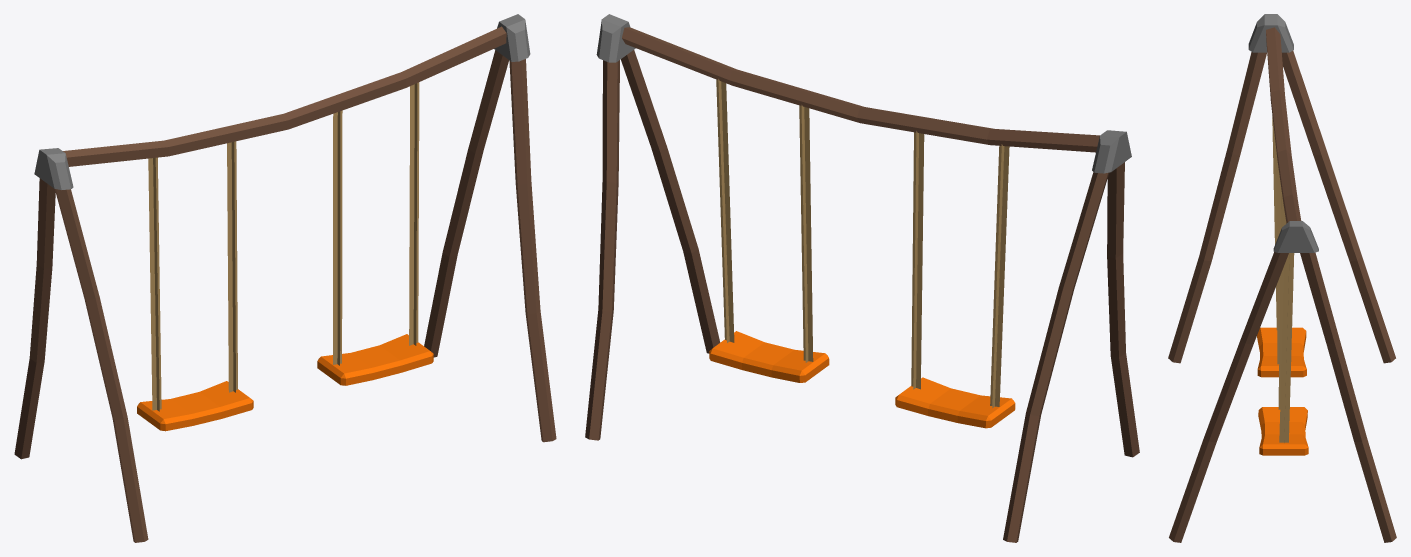
Rendered from SM_Swings.fbx.
3 views of the same model, side by side, from view 1: azimuth 30°, elevation 25°; view 2: azimuth 150°, elevation 25°; view 3: azimuth 270°, elevation 25° (orthographic). The views are drawn at different scales.
Parts seen in each view (by area): view 1: Columpios; view 2: Columpios; view 3: Columpios.
Boxes of the visible parts, left/top/right/bottom form: Columpios: left=14, top=14, right=556, bottom=542; Columpios: left=585, top=14, right=1139, bottom=542; Columpios: left=1168, top=14, right=1396, bottom=542.
Size of the model in its own units: 422 by 301 by 188.
